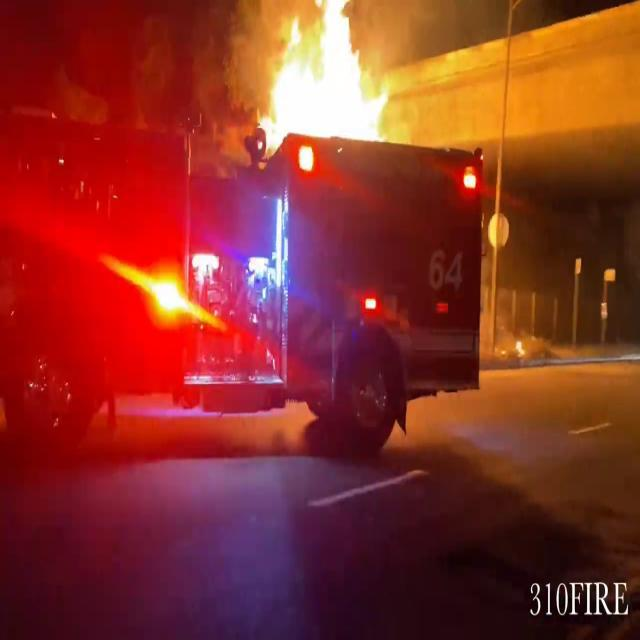Fire: (246, 1, 397, 151)
Smoke: (0, 1, 262, 251)
